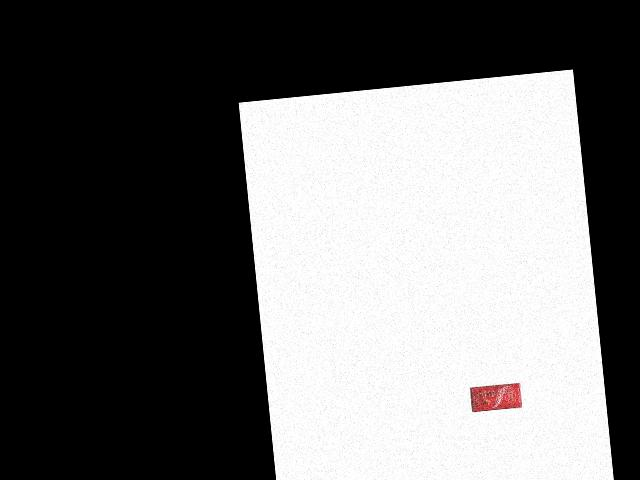chocolate: (465, 380, 523, 413)
